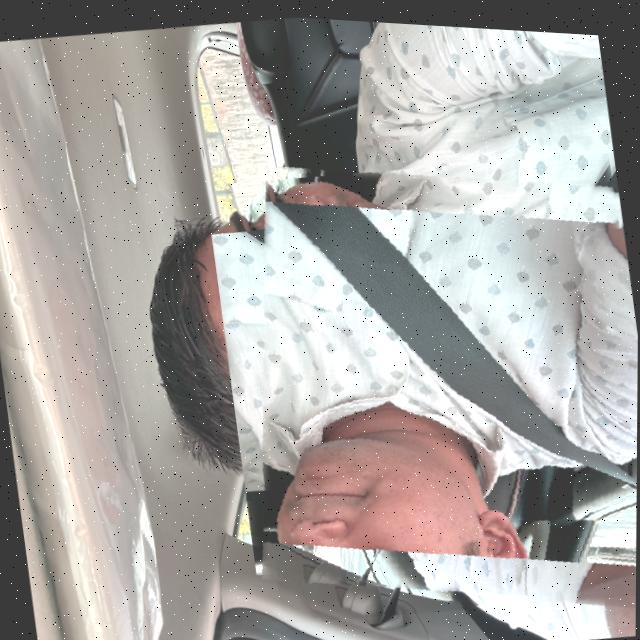seatbelt: (221, 126, 639, 637)
